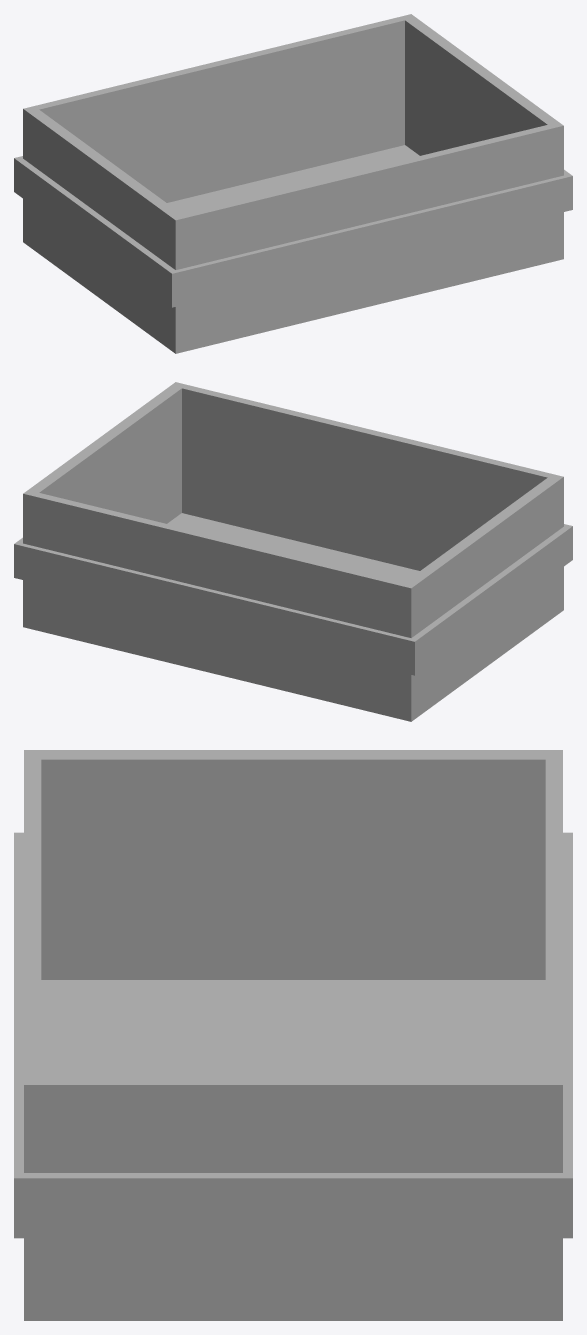
File: Tank_Case.fbx
3 views of the same model, one above another, from view 1: azimuth 30°, elevation 25°; view 2: azimuth 150°, elevation 25°; view 3: azimuth 270°, elevation 25° (orthographic). The views are drawn at different scales.
Visible parts, largest first — view 1: Tank_Case; view 2: Tank_Case; view 3: Tank_Case.
Boxes of the visible parts, box(x1,y1,x2,y2) form: Tank_Case: box(14, 14, 572, 353); Tank_Case: box(14, 382, 572, 721); Tank_Case: box(14, 750, 572, 1320).
Size of the model in its own units: 142 by 45.31 by 97.25.
